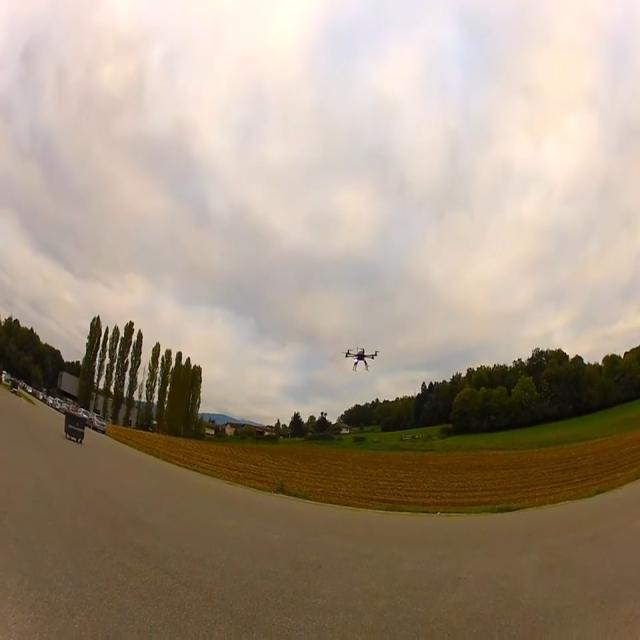drone: (344, 346, 379, 372)
